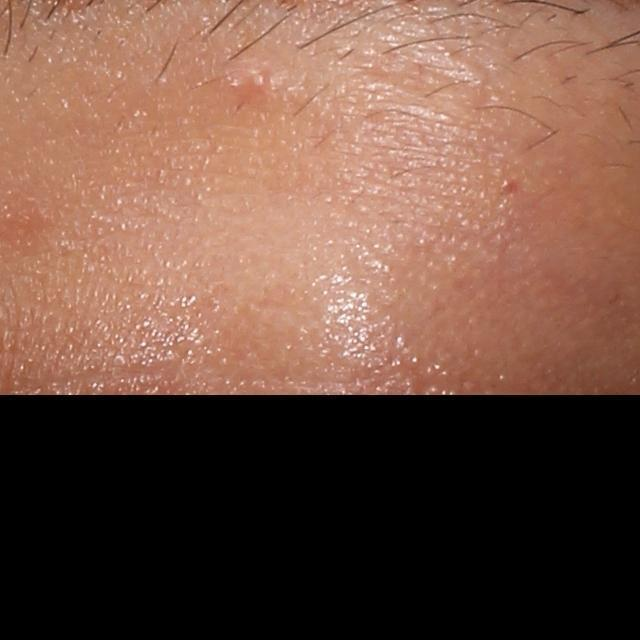papule: (245, 71, 271, 99)
